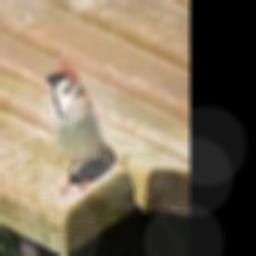Sparrow: (45, 64, 115, 194)
